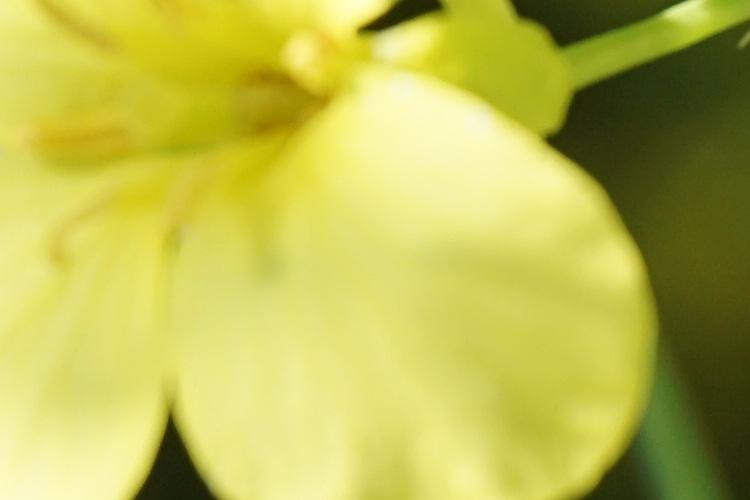yellow: (5, 1, 658, 493)
